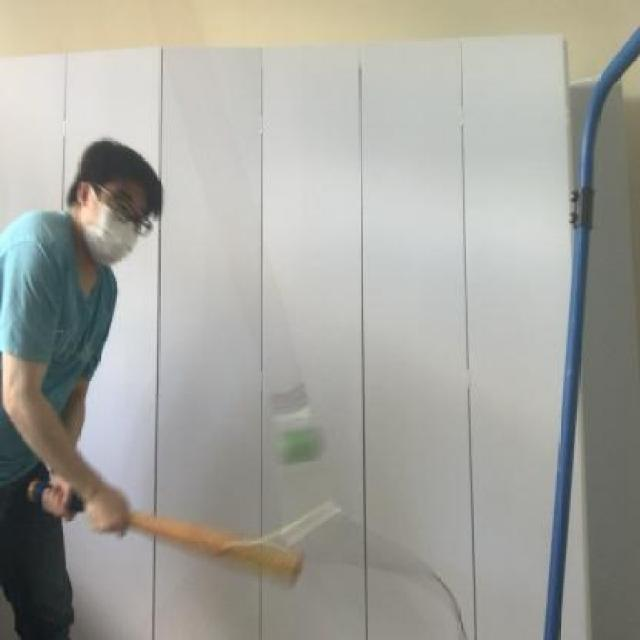baseball: (268, 402, 335, 482)
